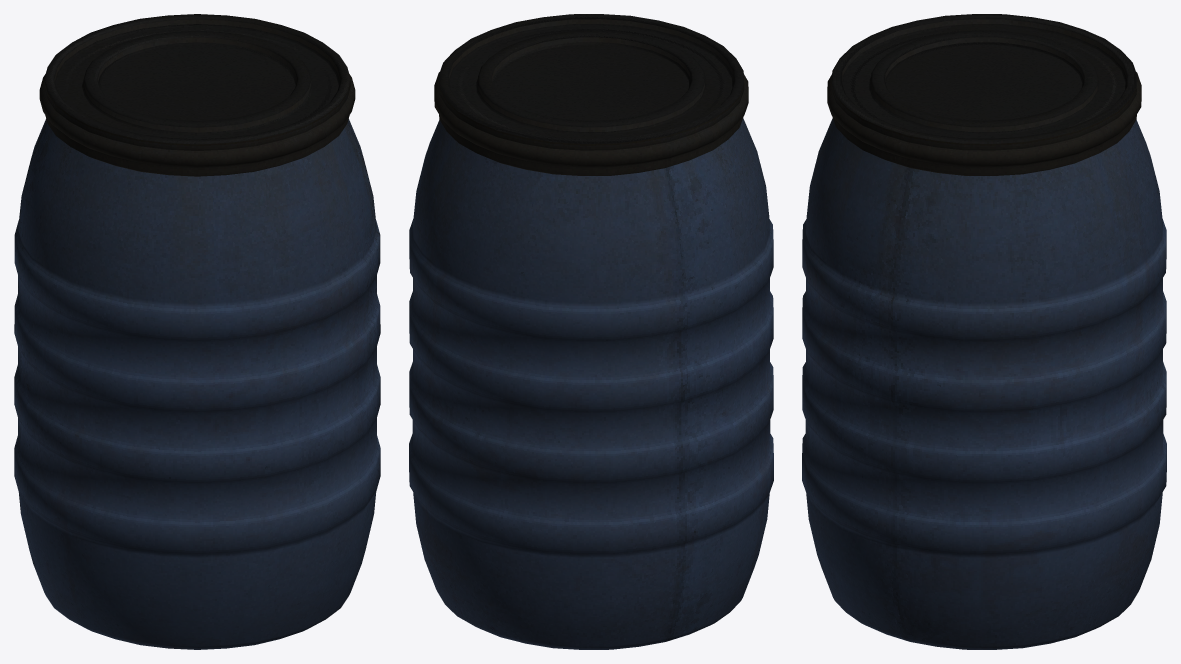
The model's file is water_barrel_1.glb.
3 renders of one model, left to right at view 1: azimuth 30°, elevation 25°; view 2: azimuth 150°, elevation 25°; view 3: azimuth 270°, elevation 25°, orthographic.
Visible parts, largest first — view 1: water_barrel_1; view 2: water_barrel_1; view 3: water_barrel_1.
Boxes of the visible parts, x1,y1,x2,y2 form: water_barrel_1: (14,14,380,649); water_barrel_1: (409,14,773,649); water_barrel_1: (802,14,1166,649).
Bounding box in the file's own units: 0.6077 × 0.9366 × 0.6077.
Materials: 1 (1 with a texture image).
